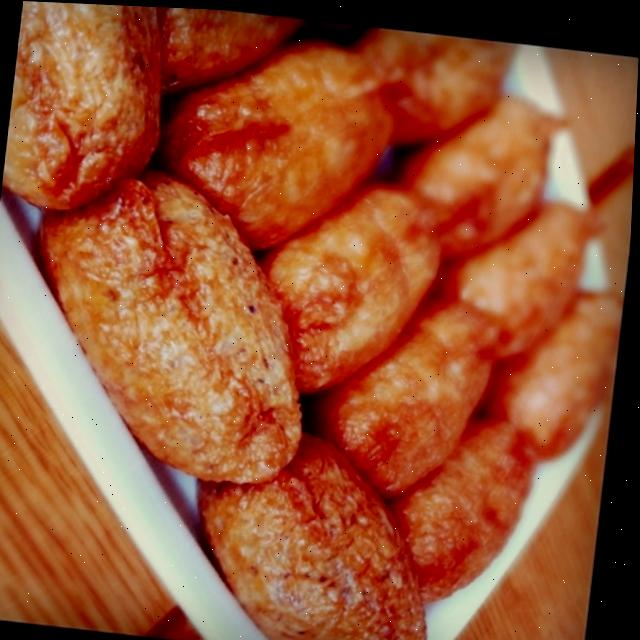寿司卷物: (0, 18, 623, 640)
